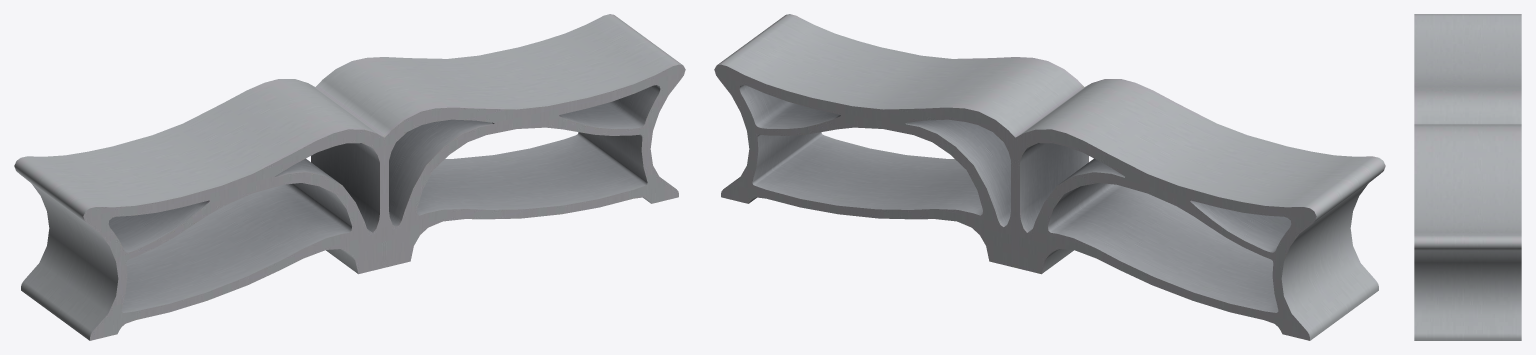
3 views of the same model, side by side, from view 1: azimuth 30°, elevation 25°; view 2: azimuth 150°, elevation 25°; view 3: azimuth 270°, elevation 25° (orthographic). The views are drawn at different scales.
Parts seen in each view (by area): view 1: 座椅; view 2: 座椅; view 3: 座椅.
Part boxes in pixels (left/top/right/bottom): 座椅: left=14, top=14, right=685, bottom=340; 座椅: left=714, top=14, right=1385, bottom=340; 座椅: left=1414, top=14, right=1521, bottom=340.
Bounding box in the file's own units: 1.81 × 0.4272 × 0.36.
1 material, 1 textured.
